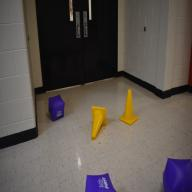cone: (120, 89, 138, 125), (91, 106, 107, 140)
cube: (162, 158, 192, 192), (85, 172, 117, 192), (48, 94, 64, 122)
